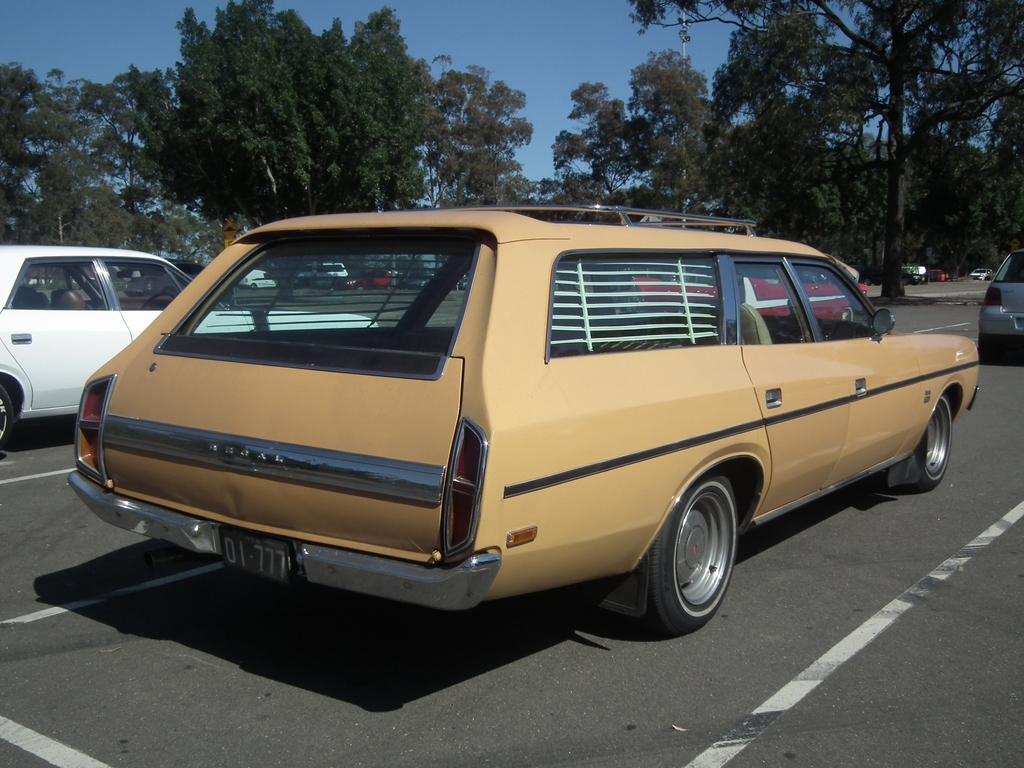Car: (46, 211, 963, 657), (0, 240, 376, 464), (622, 261, 864, 316), (982, 251, 1023, 357), (295, 264, 347, 285), (335, 271, 397, 285), (237, 272, 278, 288), (929, 266, 947, 281), (971, 266, 991, 277)
